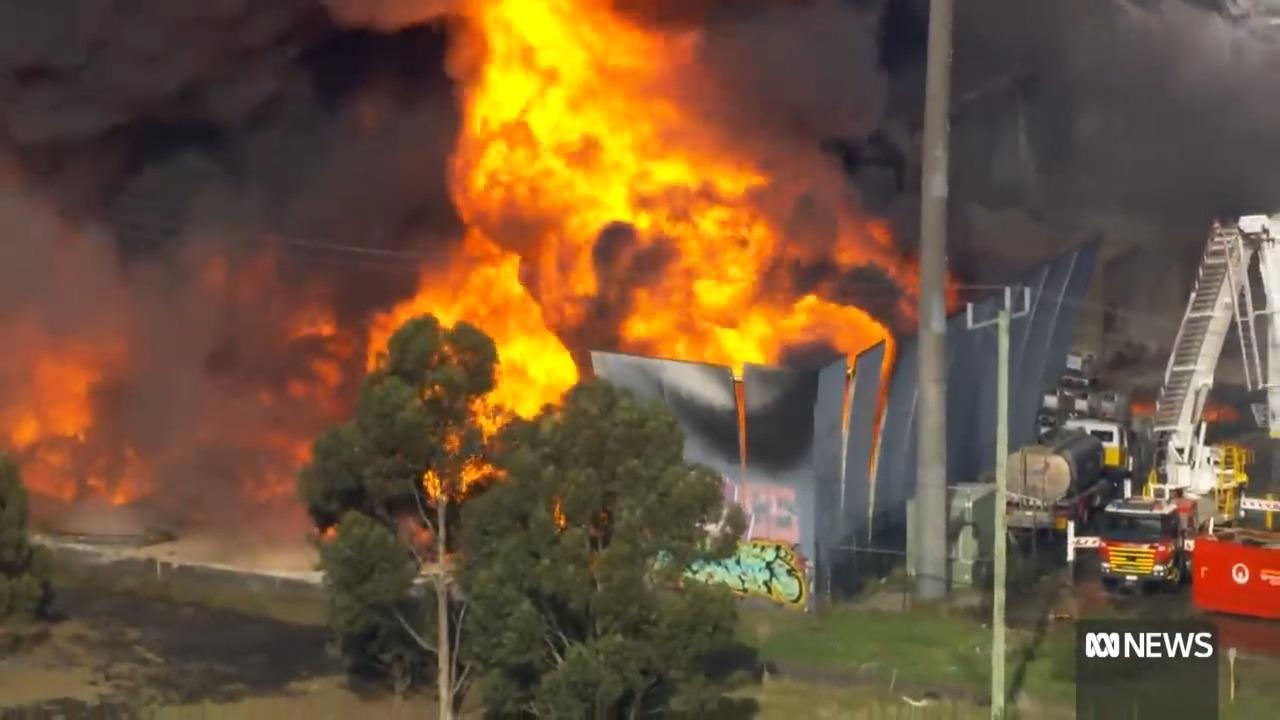fire: (424, 2, 839, 588), (0, 333, 238, 542), (267, 290, 417, 369)
